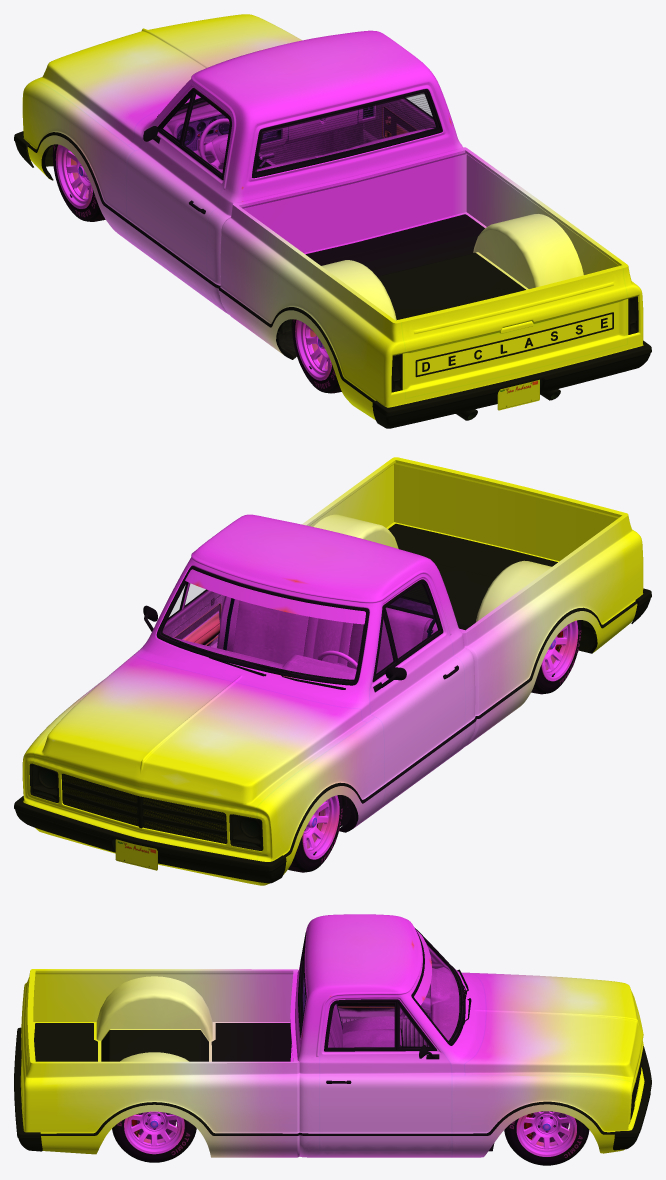
File: yosemite.glb
The picture shows the model from 3 angles, top to bottom: view 1: azimuth 30°, elevation 25°; view 2: azimuth 150°, elevation 25°; view 3: azimuth 270°, elevation 25°; orthographic projection. The views are drawn at different scales.
Parts seen in each view (by area): view 1: bodyshell, boot, bonnet, misc_d, door_dside_f, chassis, windscreen_r, wing_lf, bumper_r, misc_z, window_lf, wheel_lf (+5 smaller); view 2: bodyshell, bonnet, chassis, boot, door_dside_f, wing_lf, misc_x, misc_d, misc_e, misc_c, misc_z, door_pside_f (+5 smaller); view 3: bodyshell, bonnet, door_pside_f, wing_rf, misc_d, chassis, wheel_rf, wheel_rr, window_rf, misc_z, door_dside_f, misc_u (+6 smaller).
Part boxes in pixels (bbox=[...]): bodyshell: bbox=[128, 30, 643, 419]; boot: bbox=[398, 266, 627, 398]; bonnet: bbox=[34, 14, 301, 144]; misc_d: bbox=[304, 212, 528, 319]; door_dside_f: bbox=[125, 82, 233, 299]; chassis: bbox=[45, 93, 560, 420]; windscreen_r: bbox=[254, 92, 439, 174]; wing_lf: bbox=[22, 80, 135, 246]; bumper_r: bbox=[372, 340, 651, 428]; misc_z: bbox=[182, 89, 442, 402]; window_lf: bbox=[183, 94, 228, 173]; wheel_lf: bbox=[52, 144, 105, 221]; bodyshell: bbox=[135, 457, 643, 812]; bonnet: bbox=[33, 654, 366, 810]; chassis: bbox=[33, 581, 597, 847]; boot: bbox=[398, 458, 622, 561]; door_dside_f: bbox=[369, 575, 466, 806]; wing_lf: bbox=[256, 717, 385, 885]; misc_x: bbox=[29, 763, 263, 850]; misc_d: bbox=[386, 522, 558, 630]; misc_e: bbox=[14, 796, 286, 883]; misc_c: bbox=[33, 756, 261, 885]; misc_z: bbox=[156, 566, 636, 728]; door_pside_f: bbox=[143, 582, 224, 647]; bodyshell: bbox=[20, 914, 486, 1157]; bonnet: bbox=[464, 972, 643, 1082]; door_pside_f: bbox=[319, 995, 451, 1150]; wing_rf: bbox=[452, 1076, 633, 1157]; misc_d: bbox=[33, 1022, 292, 1061]; chassis: bbox=[299, 937, 632, 1151]; wheel_rf: bbox=[504, 1111, 589, 1165]; wheel_rr: bbox=[112, 1111, 196, 1162]; window_rf: bbox=[328, 1003, 394, 1047]; misc_z: bbox=[20, 928, 645, 1135]; door_dside_f: bbox=[337, 951, 443, 1046]; misc_u: bbox=[319, 999, 451, 1135].
Bounding box in the file's own units: 1.93 × 1.45 × 4.87.
Materials: 18 (18 with a texture image).
